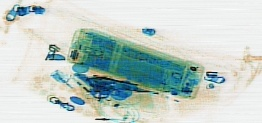lighter: (50, 68, 104, 115)
